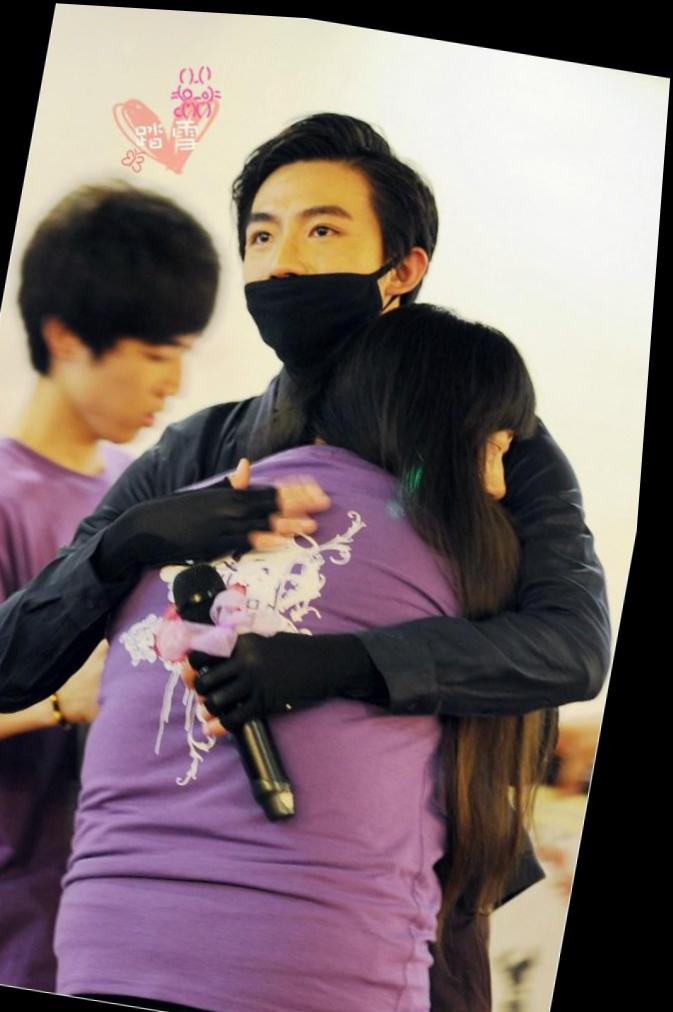NONE: (75, 309, 210, 451)
WRONG: (217, 173, 413, 367)
